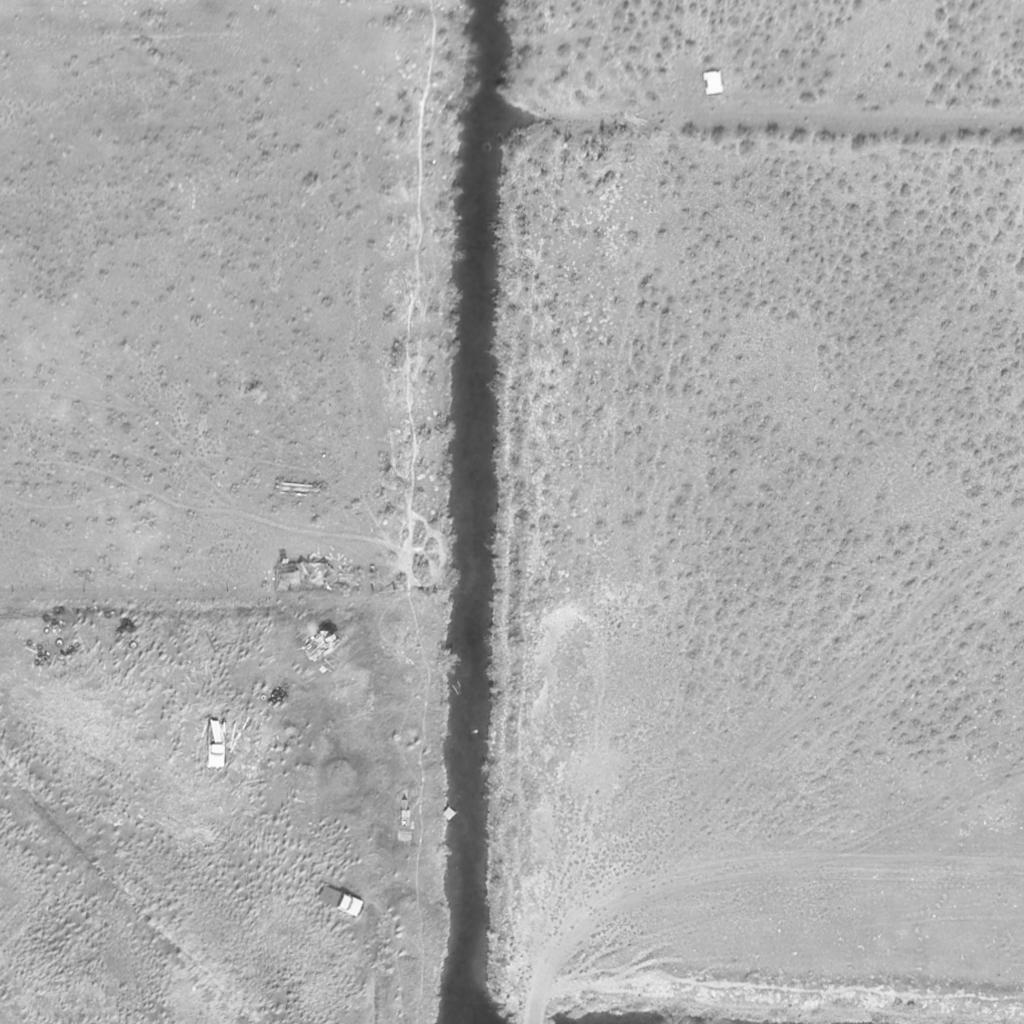vehicle: (316, 883, 366, 919), (207, 720, 229, 770)
